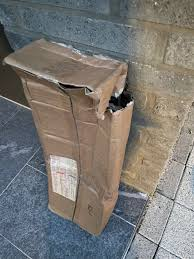damaged package: (53, 79, 100, 109), (105, 82, 135, 118)
